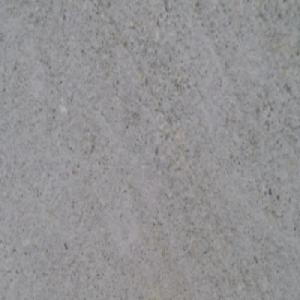BoltNutSet: (145, 289, 161, 299)
